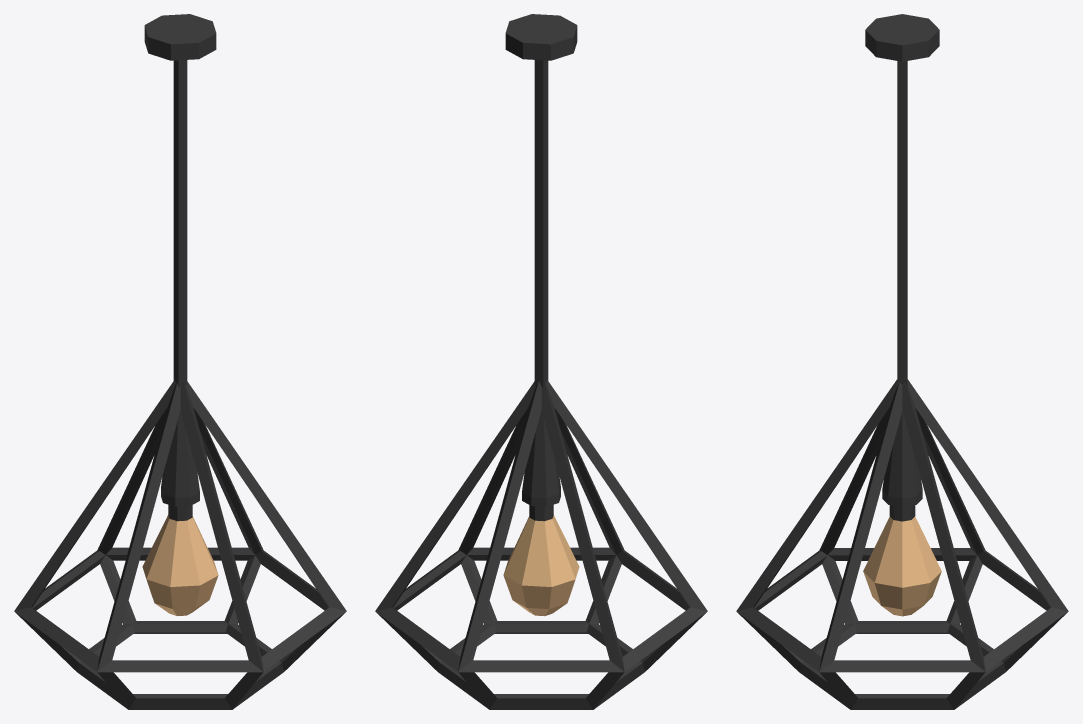
Rendered from Light_11.fbx.
3 renders of one model, left to right at view 1: azimuth 30°, elevation 25°; view 2: azimuth 150°, elevation 25°; view 3: azimuth 270°, elevation 25°, orthographic.
Parts seen in each view (by area): view 1: Light_11; view 2: Light_11; view 3: Light_11.
Boxes of the visible parts, x1,y1,x2,y2 form: Light_11: (14,14,346,709); Light_11: (375,14,707,709); Light_11: (736,14,1068,709).
Bounding box in the file's own units: 24.27 × 59.71 × 28.02.
